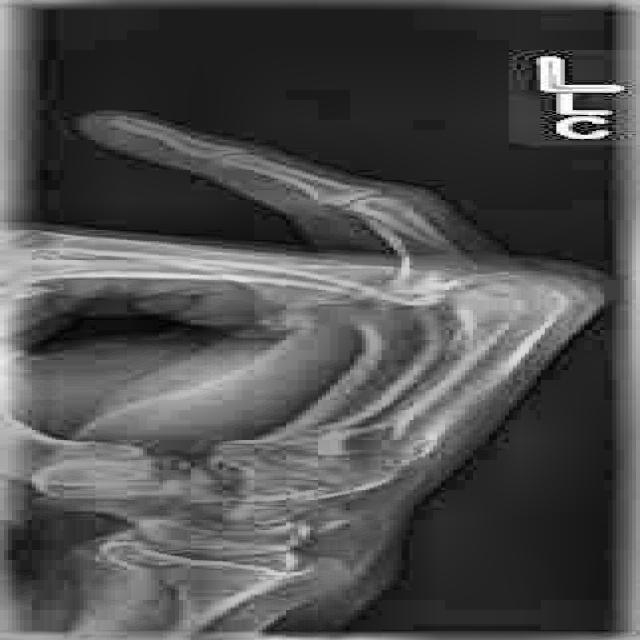fingers positive: (319, 197, 518, 279)
